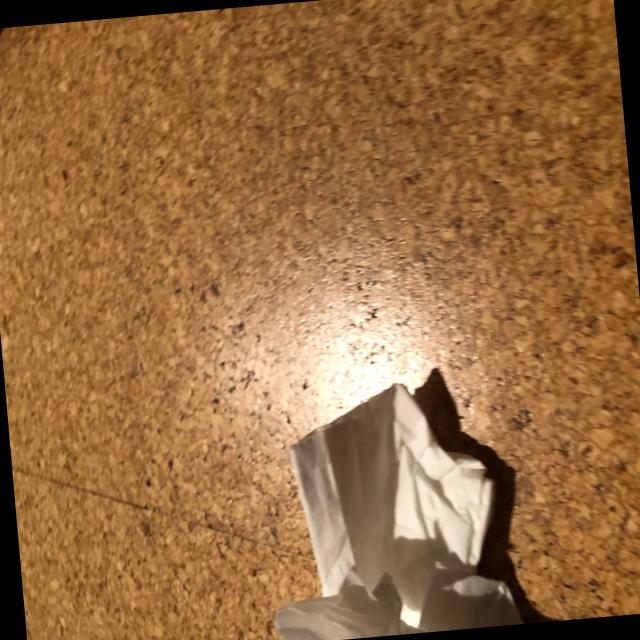organic waste: (283, 372, 502, 638), (262, 566, 519, 640)
